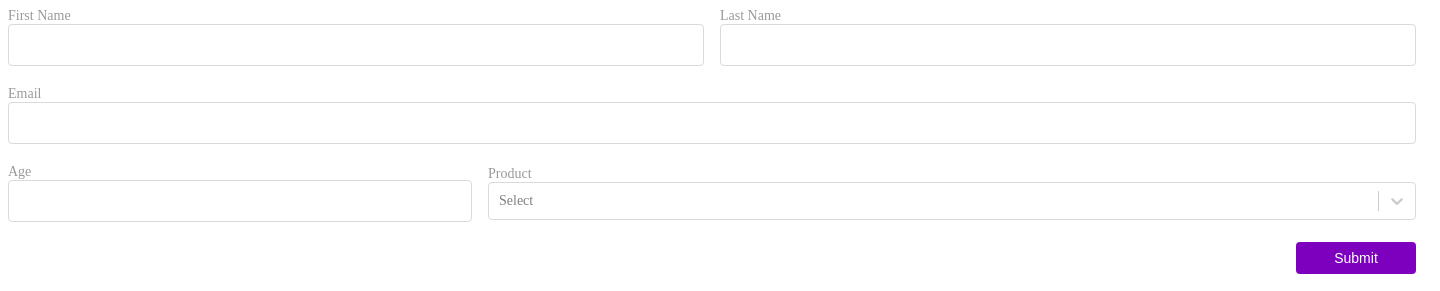
Test: Testing a product insurance sales form component › should throw error for required field
Expected: the text "Is Required" is not shown
In the field with test id "first_name": x=356, y=45 [8,24,704,66], type "test"
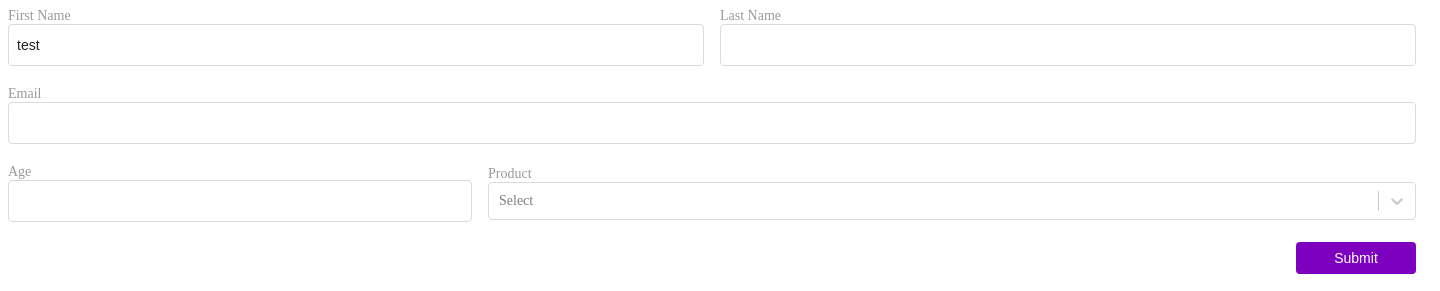
Clear the field with test id "first_name": x=356, y=45 [8,24,704,66]
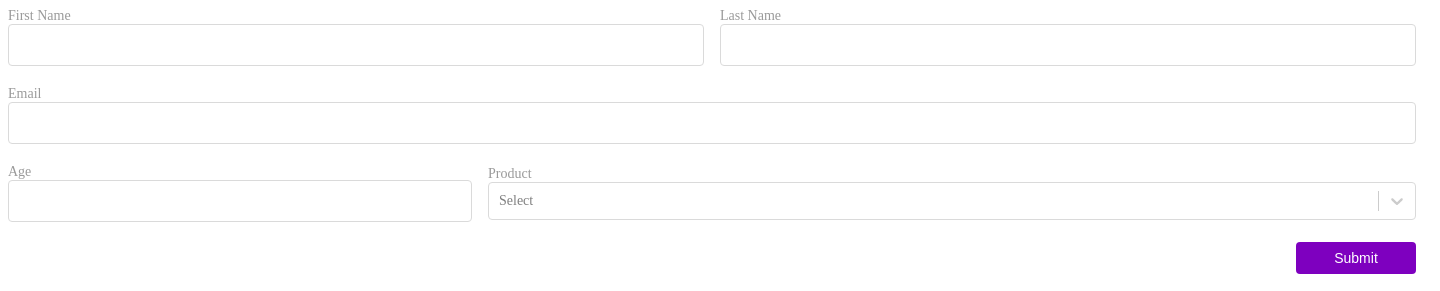
Click the element showing "First Name Last Name Email Age Product Select Submit": x=720, y=141 [8,8,1432,274]
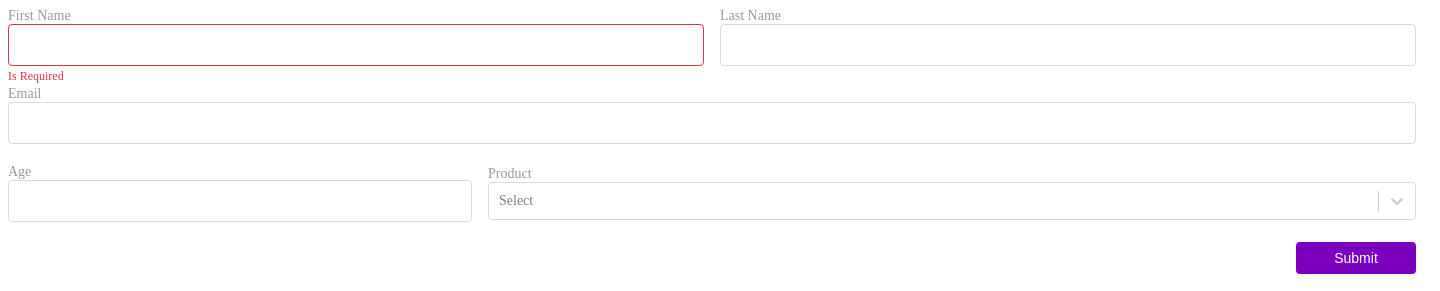
Expected: the text "Is Required" is shown, [8,69,64,83]
